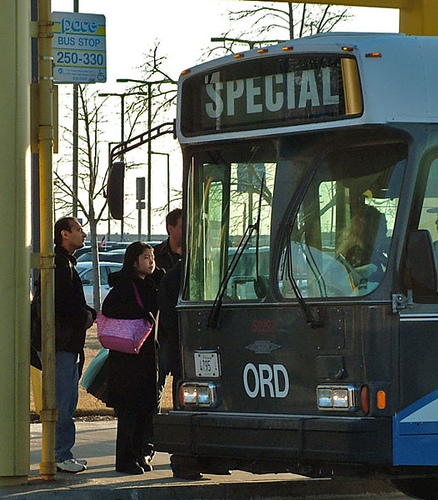without_mask: (58, 218, 87, 253), (131, 245, 158, 276)
